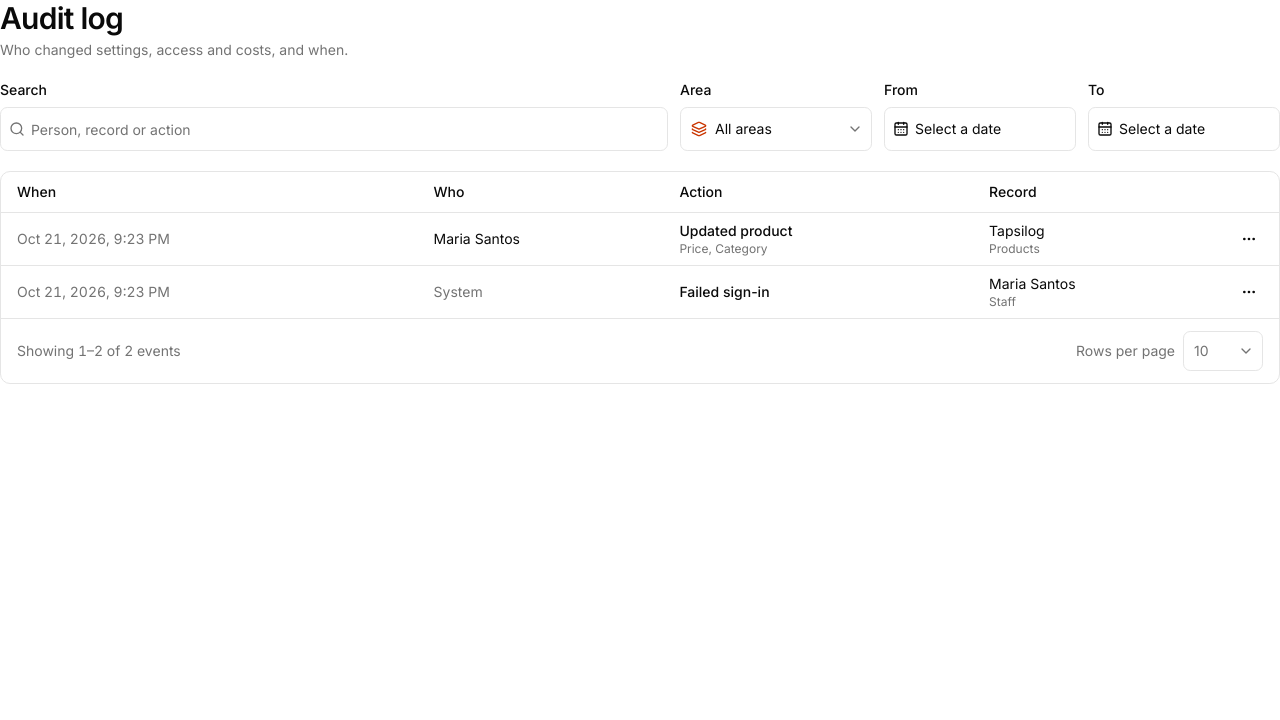
Test: audit log › shows field changes in a side sheet
Step 1. Click the button named "Actions for Updated product on Tapsilog" → (1249, 239), box 1235,225 -> 1263,253
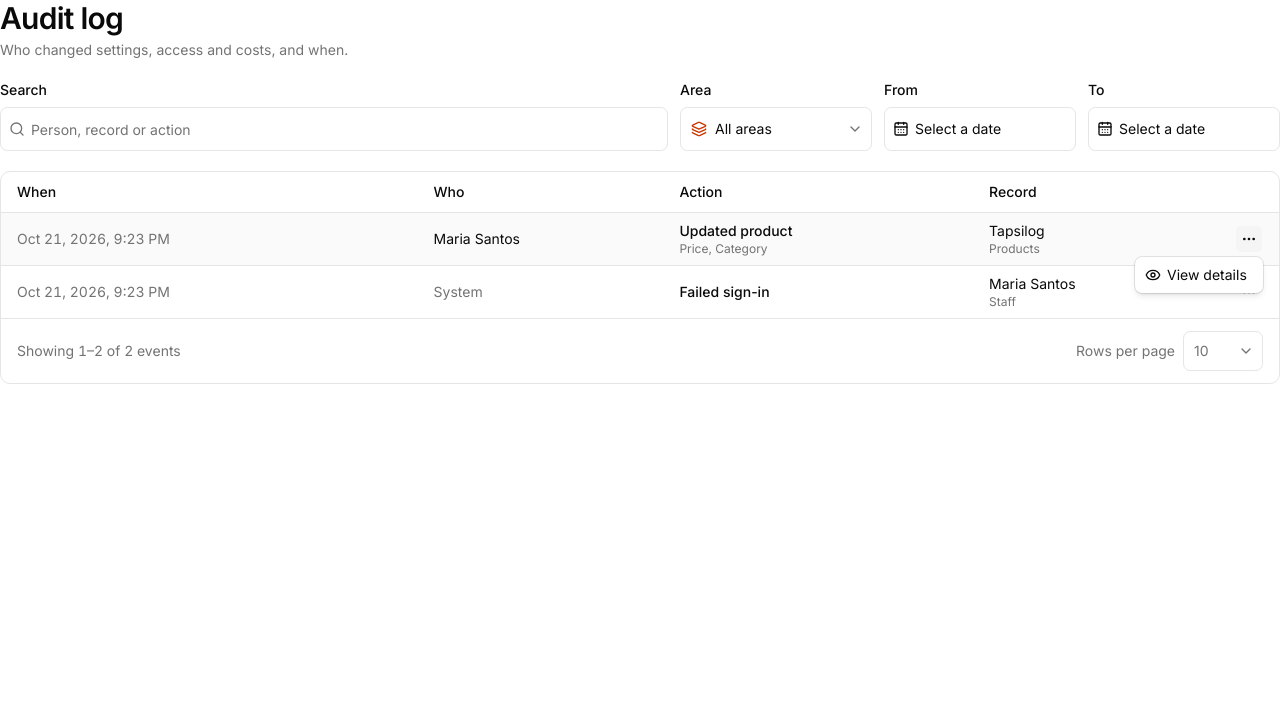
Step 2. Click the menu item "View details" → (1196, 274), box 1145,266 -> 1247,283
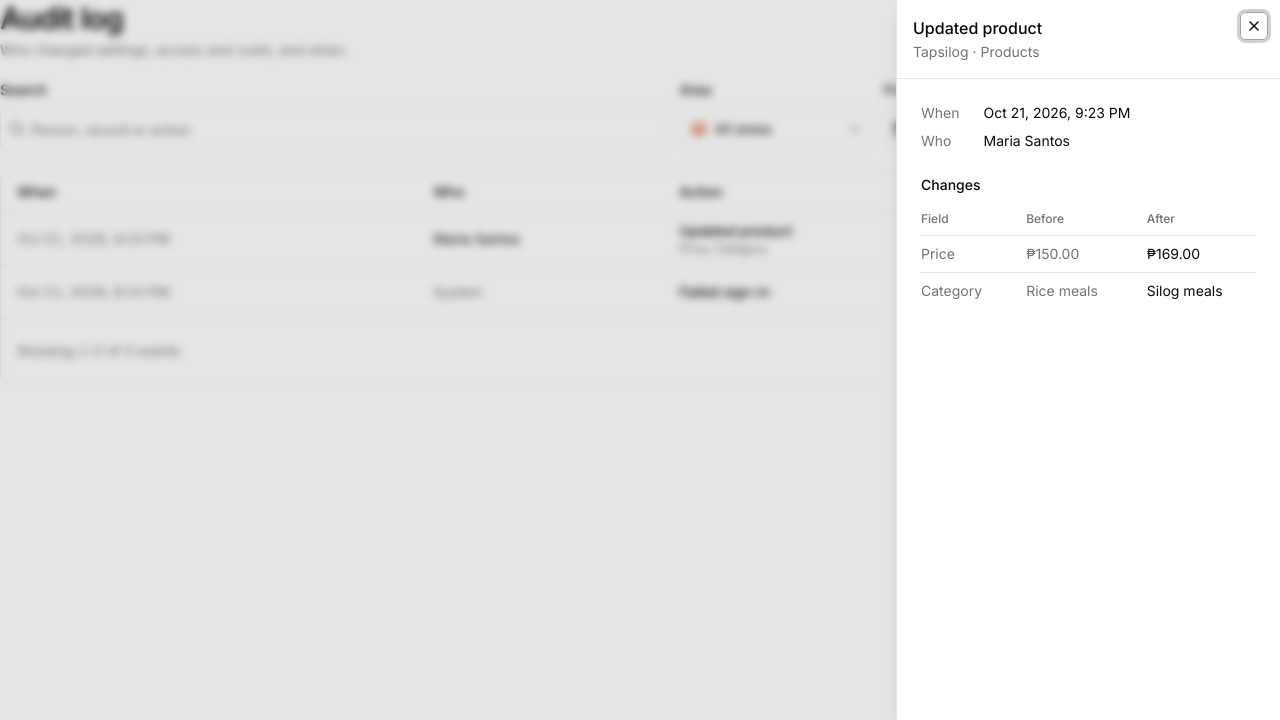
Expected: the text "Maria Santos" is shown, 984,132 -> 1070,149
Expected: the text "₱150.00" is shown, 1026,236 -> 1147,272
Expected: the text "₱169.00" is shown, 1147,236 -> 1256,272
